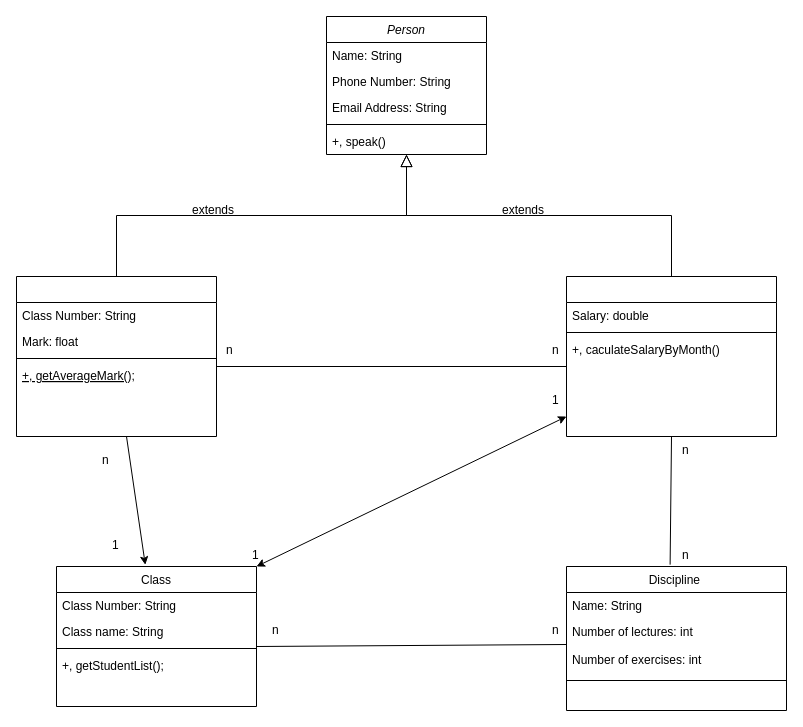
Image size: 803x727. Some labels were removed from this diagram. The box of each missing label's shape, as (x1, y1, x2, y2) in pixels:
Student: (16, 276, 216, 436)
Teacher: (566, 276, 776, 436)
